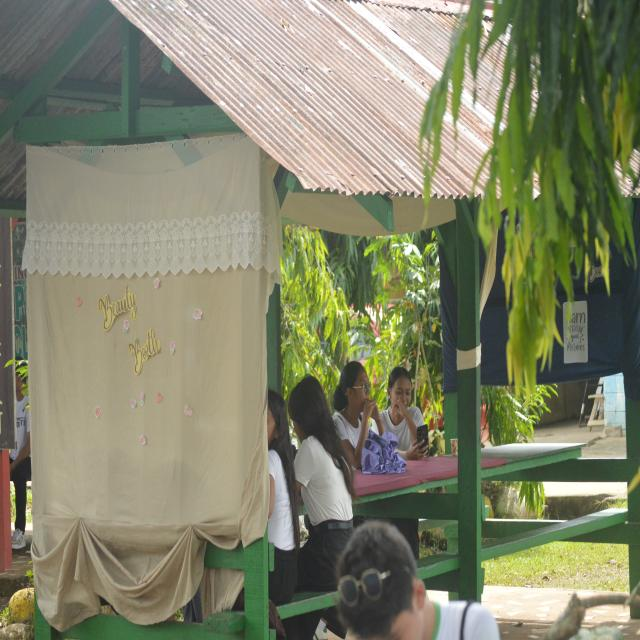person: (338, 522, 499, 639), (289, 376, 355, 591), (333, 361, 384, 469), (381, 367, 428, 459), (10, 374, 31, 549)
